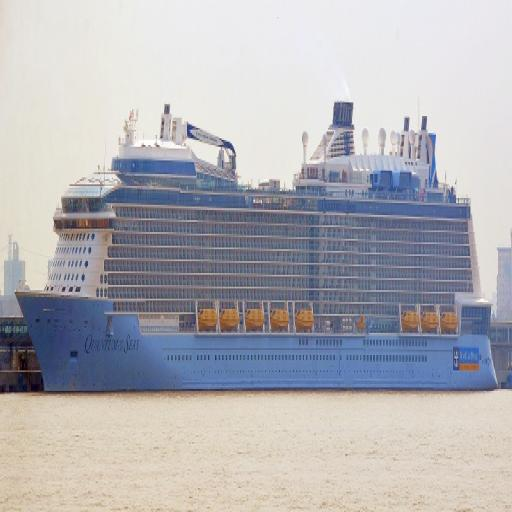cruises: (10, 81, 508, 406)
